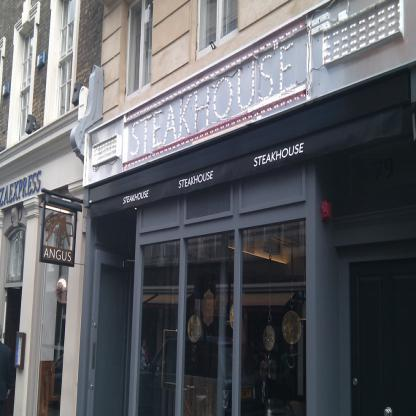door: (350, 258, 416, 416), (86, 248, 127, 415)
knob: (382, 406, 391, 416)
